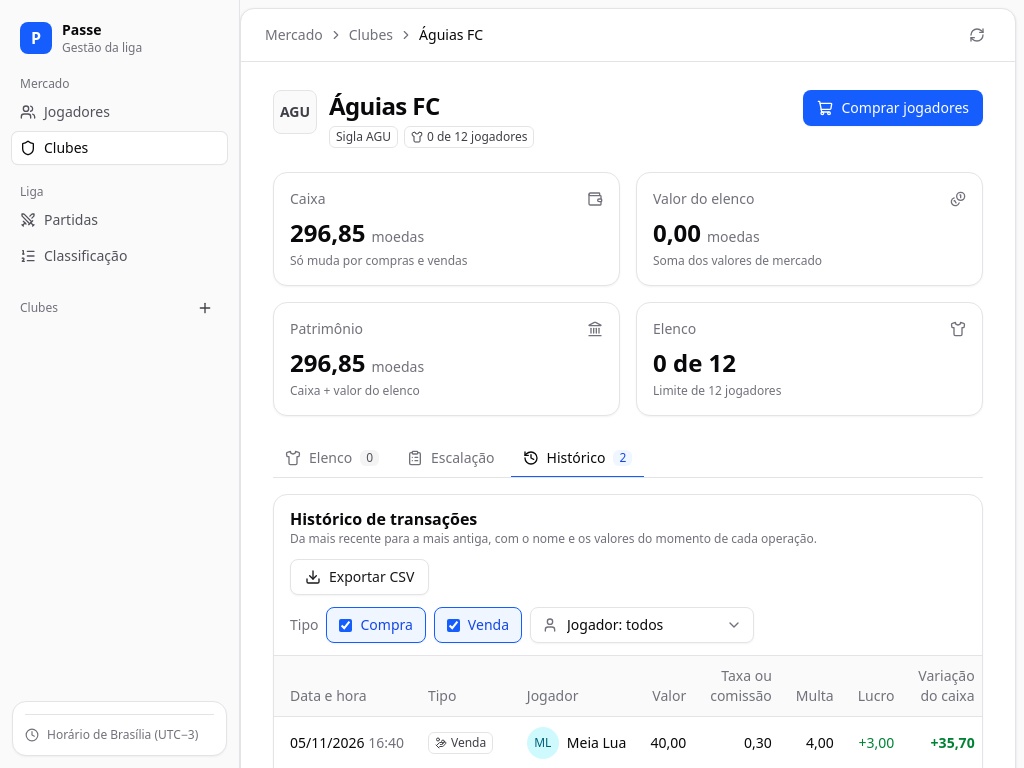
it: Histórico de transações › filtra por um jogador que aparece no histórico
Step 1. Select "Meia Lua" in the dropdown named "Jogador" → (642, 625), box x1=530 y1=607 x2=754 y2=643
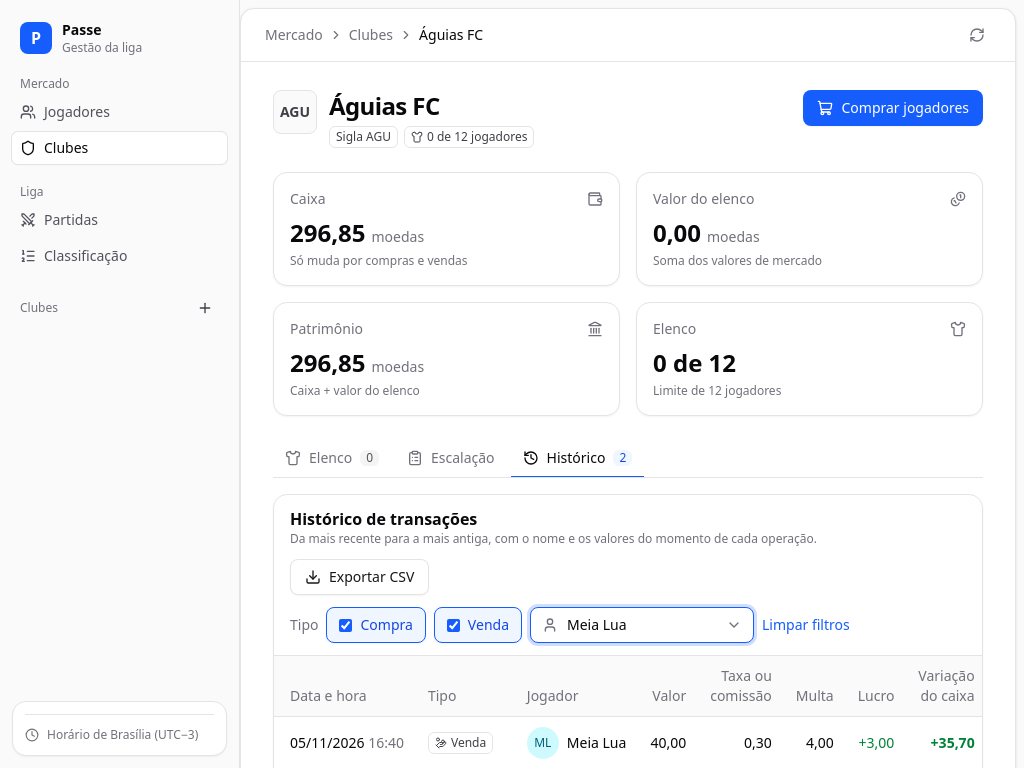
Now the button "Limpar filtros" is shown, box x1=762 y1=615 x2=850 y2=635
